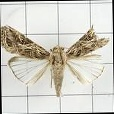Spodoptera litura: (1, 24, 111, 97)
